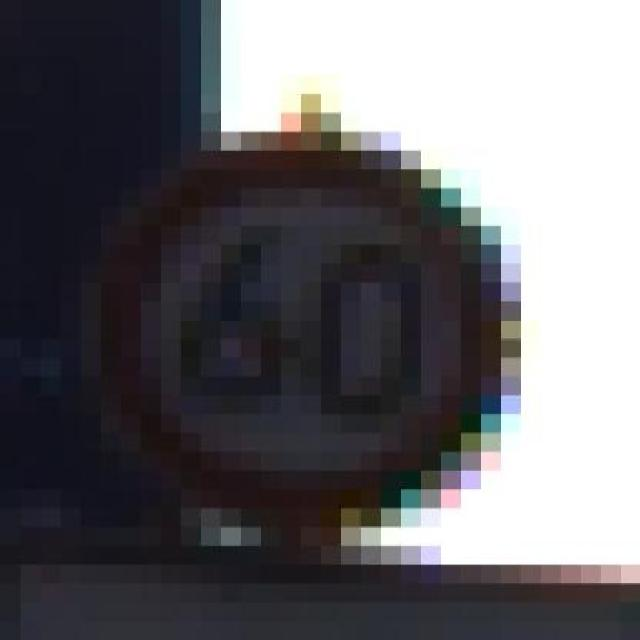forb_speed_over_60: (108, 149, 497, 516)
